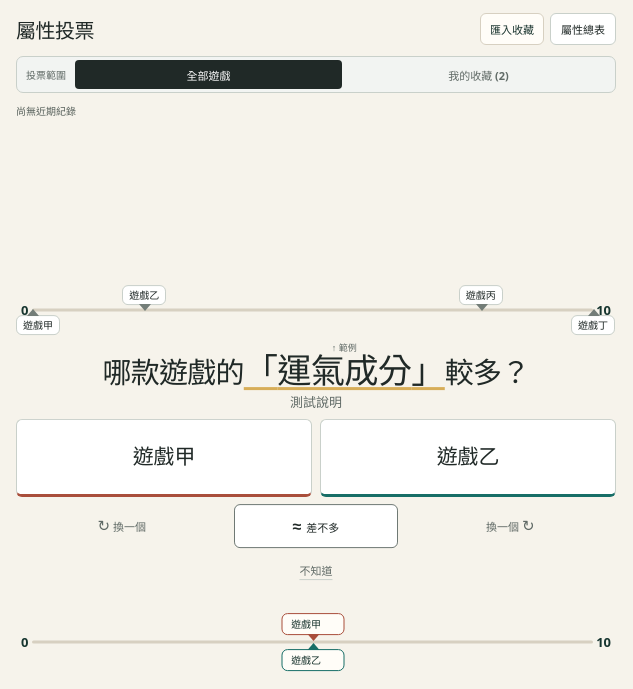
Test case: AttributesPage question flow › switches to an imported collection through the shared attribute catalog cache
This screenshot has width=633, height=689.
Click the button "我的收藏 (2)": (478, 74) [345,60,612,89]
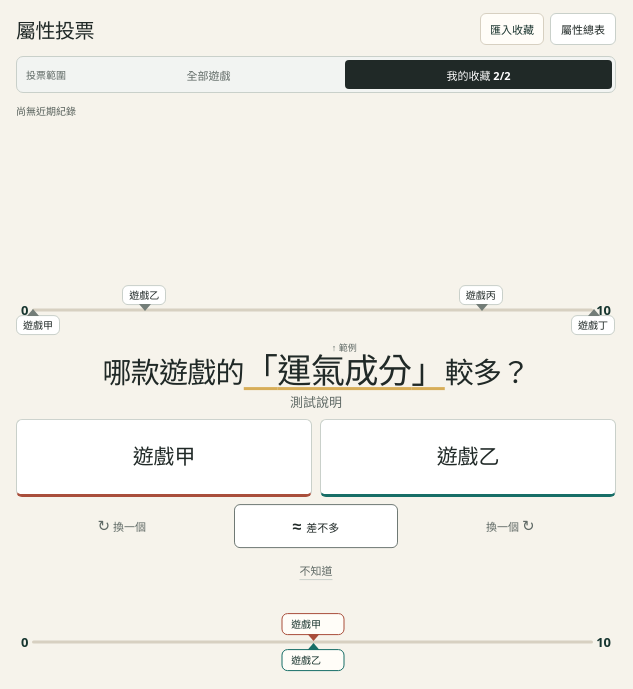
Result: the button "全部遊戲" is enabled at [75,60,342,89]
